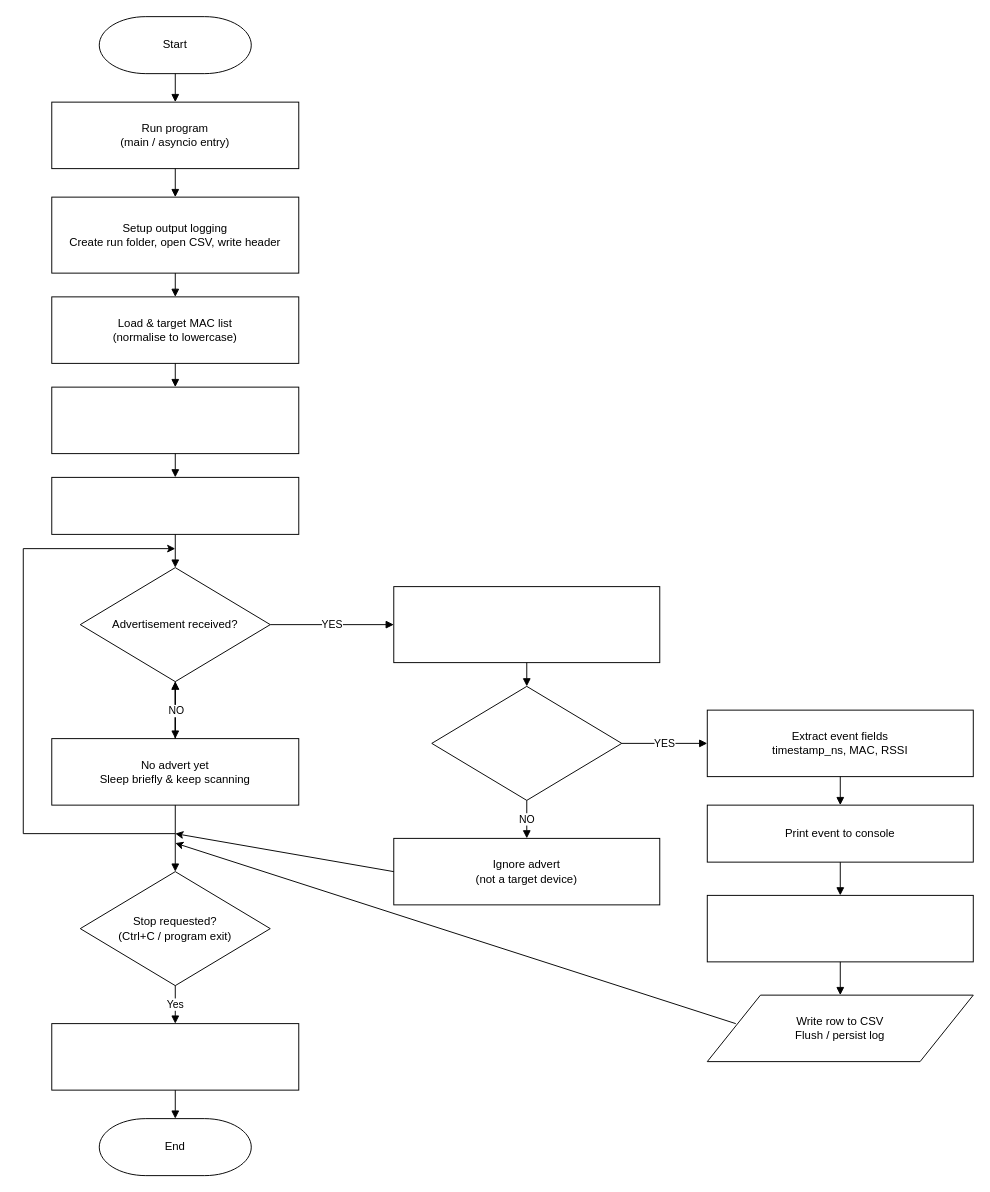
Some shapes in this 990 by 1192 pixel diagram are drawn without their labels. The centre of each missing label's shape, as x and y in pixels:
Callback runs (device + advertisement data): (x=526, y=624)
Cleanup Stop scanner, close file handles: (x=175, y=1056)
Create BleakScanner with detection callback: (x=175, y=420)
MAC in target list?: (x=526, y=742)
Push event to queue (for later KPI/processing): (x=839, y=928)
Start scanning: (x=175, y=505)
